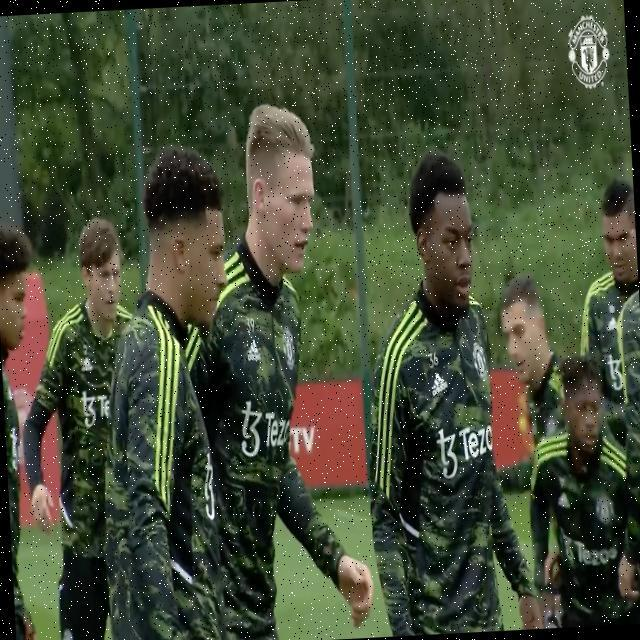Adidas: (430, 367, 449, 400), (246, 337, 263, 364), (81, 355, 94, 374)
